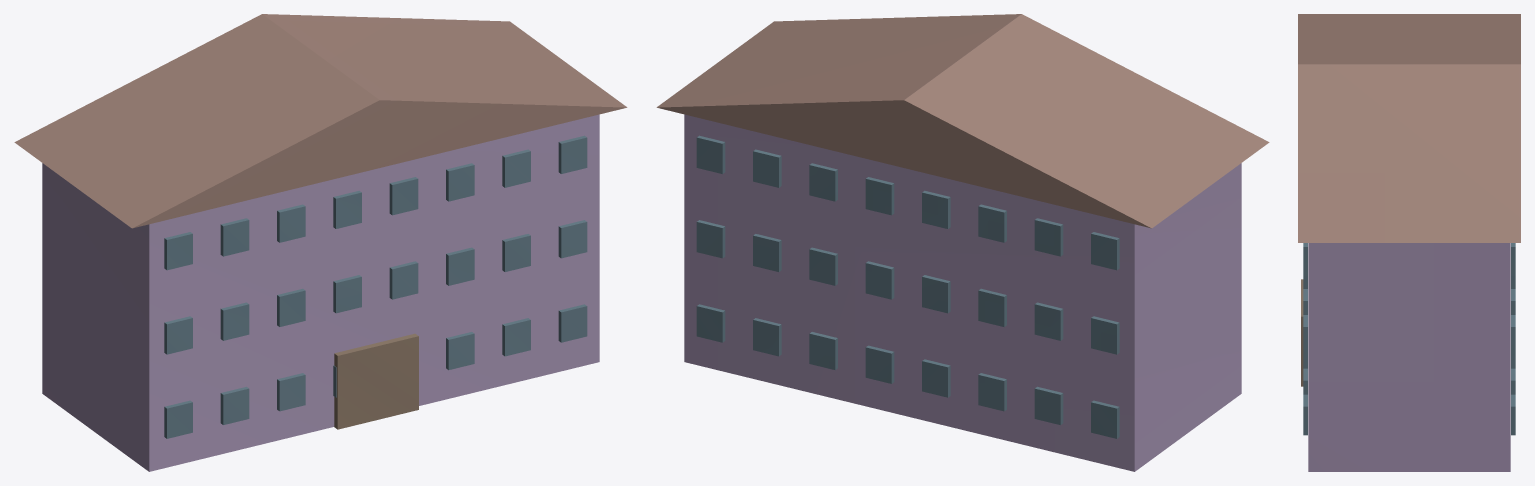
The model's file is station-00.glb.
3 renders of one model, left to right at view 1: azimuth 30°, elevation 25°; view 2: azimuth 150°, elevation 25°; view 3: azimuth 270°, elevation 25°, orthographic. The views are drawn at different scales.
Parts seen in each view (by area): view 1: world; view 2: world; view 3: world.
Boxes of the visible parts, x1=… form: world: x1=14, y1=14, x2=627, y2=471; world: x1=656, y1=14, x2=1269, y2=471; world: x1=1298, y1=14, x2=1520, y2=471.
Size of the model in its own units: 2.81 by 1.74 by 1.16.
